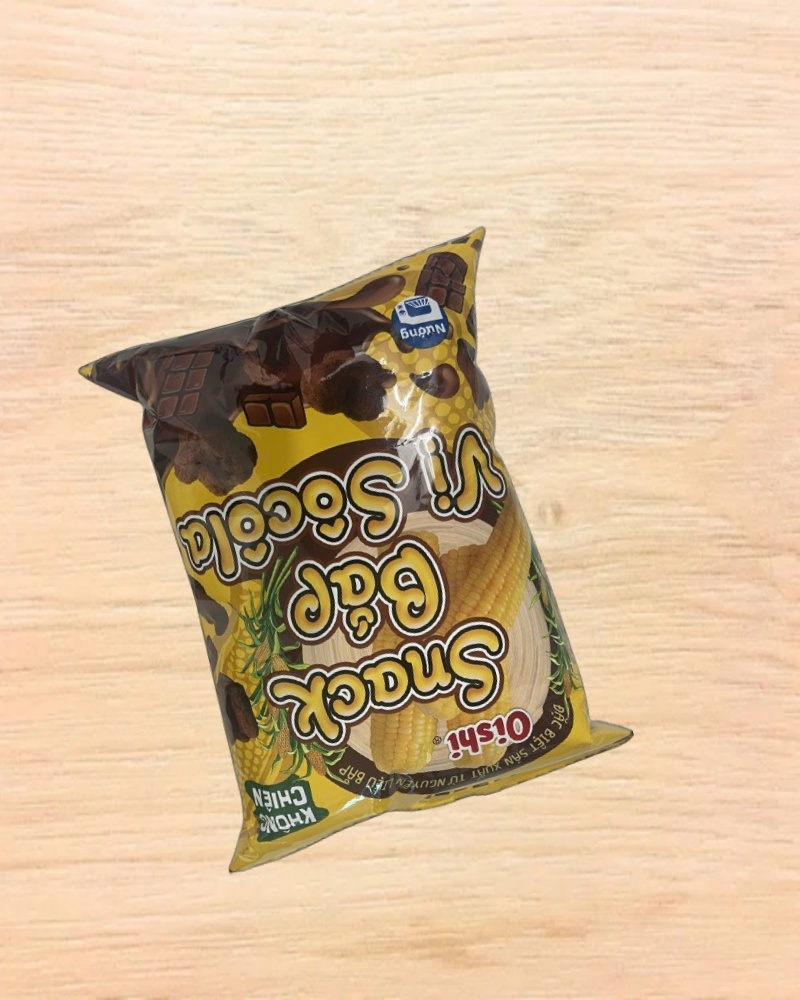Snack socola: (72, 226, 641, 877)
